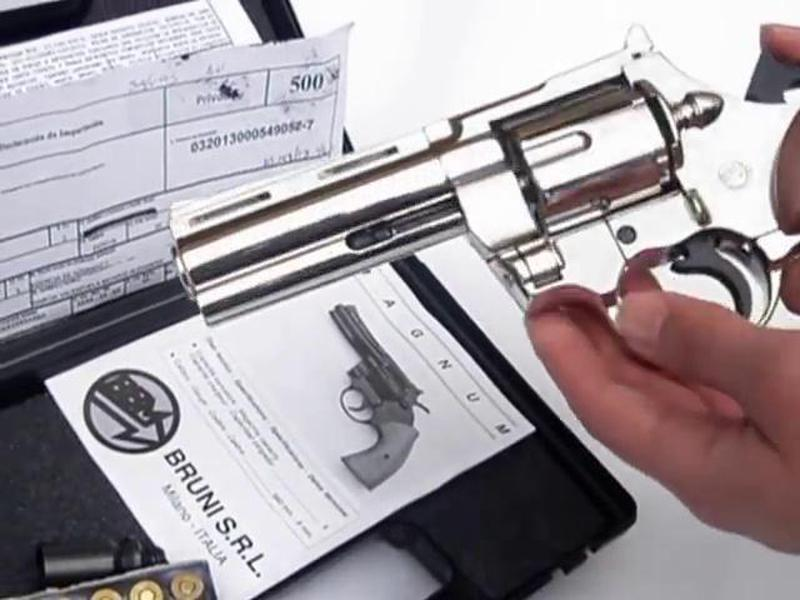Revolver: (156, 47, 800, 388)
